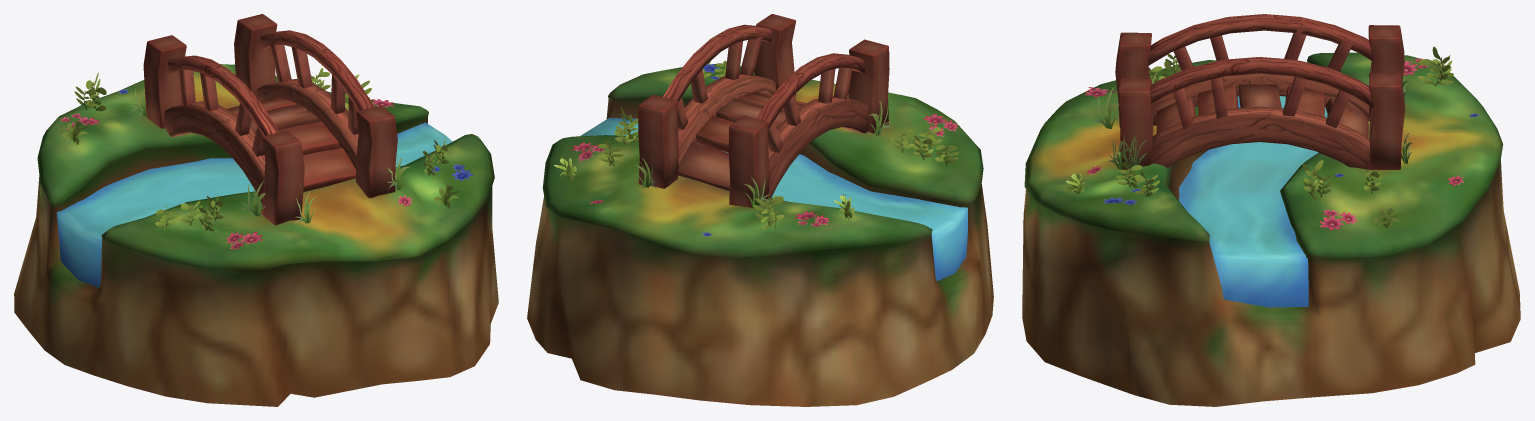
File: bridge1.glb
3 renders of one model, left to right at view 1: azimuth 30°, elevation 25°; view 2: azimuth 150°, elevation 25°; view 3: azimuth 270°, elevation 25°, orthographic. The views are drawn at different scales.
Visible parts, largest first — view 1: Cylinder, Cylinder.001, Cube.007, Cube.002, Cube.001, Cube.003, Cube.006, Cube, grass pack 2.001, Cube.011, Cube.012, Cube.005 (+10 smaller); view 2: Cylinder, Cylinder.001, Cube.007, Cube, Cube.003, grass pack 2.001, Cube.002, Cube.006, Cube.001, Cube.011, Cube.012, Cube.010 (+9 smaller); view 3: Cylinder, Cylinder.001, Cube.006, Cube.011, Cube.012, Cube, grass pack 2.001, Cube.001, Cube.007, Cube.003, Cube.002, grass pack 2.003 (+11 smaller).
Part boxes in pixels (x1,y1,x2,y2): Cylinder: [14, 64, 498, 406]; Cylinder.001: [56, 122, 452, 287]; Cube.007: [164, 101, 265, 204]; Cube.002: [262, 131, 304, 225]; Cube.001: [356, 106, 397, 198]; Cube.003: [143, 35, 186, 128]; Cube.006: [256, 79, 358, 169]; Cube: [234, 14, 277, 96]; grass pack 2.001: [74, 68, 448, 231]; Cube.011: [259, 30, 373, 110]; Cube.012: [167, 55, 279, 135]; Cube.005: [303, 148, 355, 192]; Cylinder: [527, 64, 993, 406]; Cylinder.001: [580, 117, 967, 281]; Cube.007: [768, 96, 868, 197]; Cube: [638, 94, 678, 188]; Cube.003: [728, 115, 769, 207]; grass pack 2.001: [597, 60, 958, 229]; Cube.002: [848, 39, 889, 133]; Cube.006: [678, 73, 775, 164]; Cube.001: [754, 14, 795, 96]; Cube.011: [663, 24, 771, 102]; Cube.012: [756, 53, 865, 129]; Cube.010: [678, 142, 729, 190]; Cylinder: [1022, 52, 1520, 406]; Cylinder.001: [1179, 96, 1327, 307]; Cube.006: [1150, 106, 1370, 169]; Cube.011: [1150, 57, 1373, 107]; Cube.012: [1147, 14, 1372, 65]; Cube: [1369, 73, 1404, 169]; grass pack 2.001: [1116, 46, 1453, 199]; Cube.001: [1118, 78, 1153, 169]; Cube.007: [1153, 73, 1369, 125]; Cube.003: [1368, 25, 1404, 121]; Cube.002: [1115, 32, 1151, 127]; grass pack 2.003: [1091, 71, 1412, 172].
Bounding box in the file's own units: 204 × 127 × 207.
Materials: 2 (2 with a texture image).
